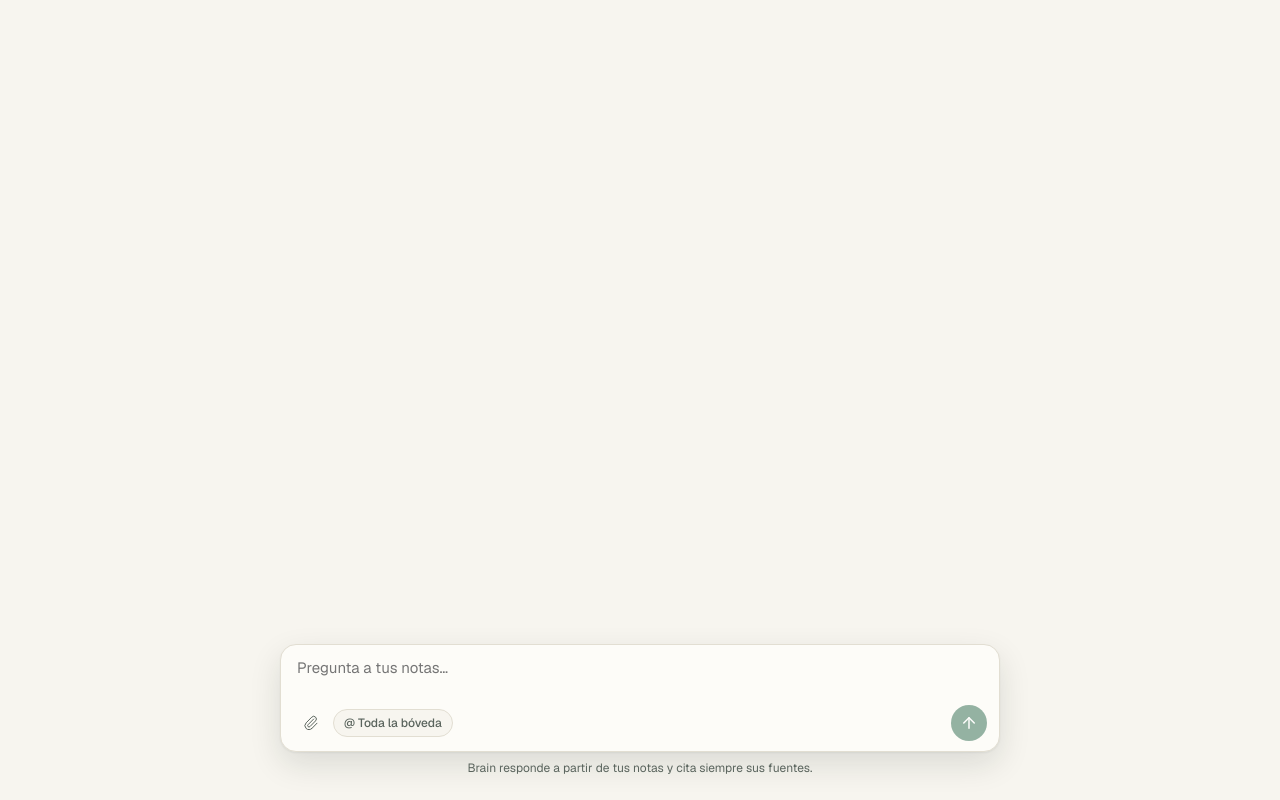
it: ChatPanel attachments › the paperclip opens the picker and attaches the chosen file
The width and height of the screenshot is (1280, 800).
Click the button named "Adjuntar archivo".
click(311, 723)  # box 297,709 -> 325,737
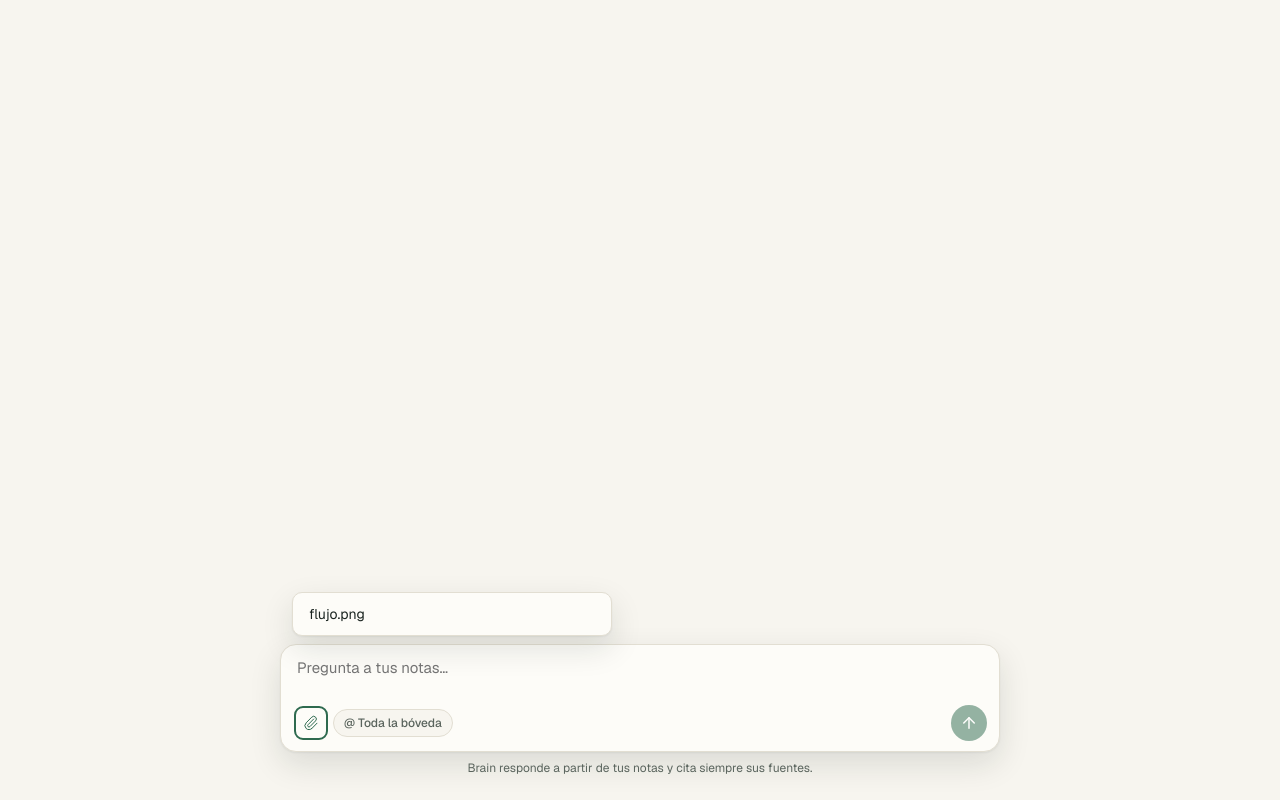
Click the button "flujo.png".
click(337, 614)  # box 297,597 -> 607,631
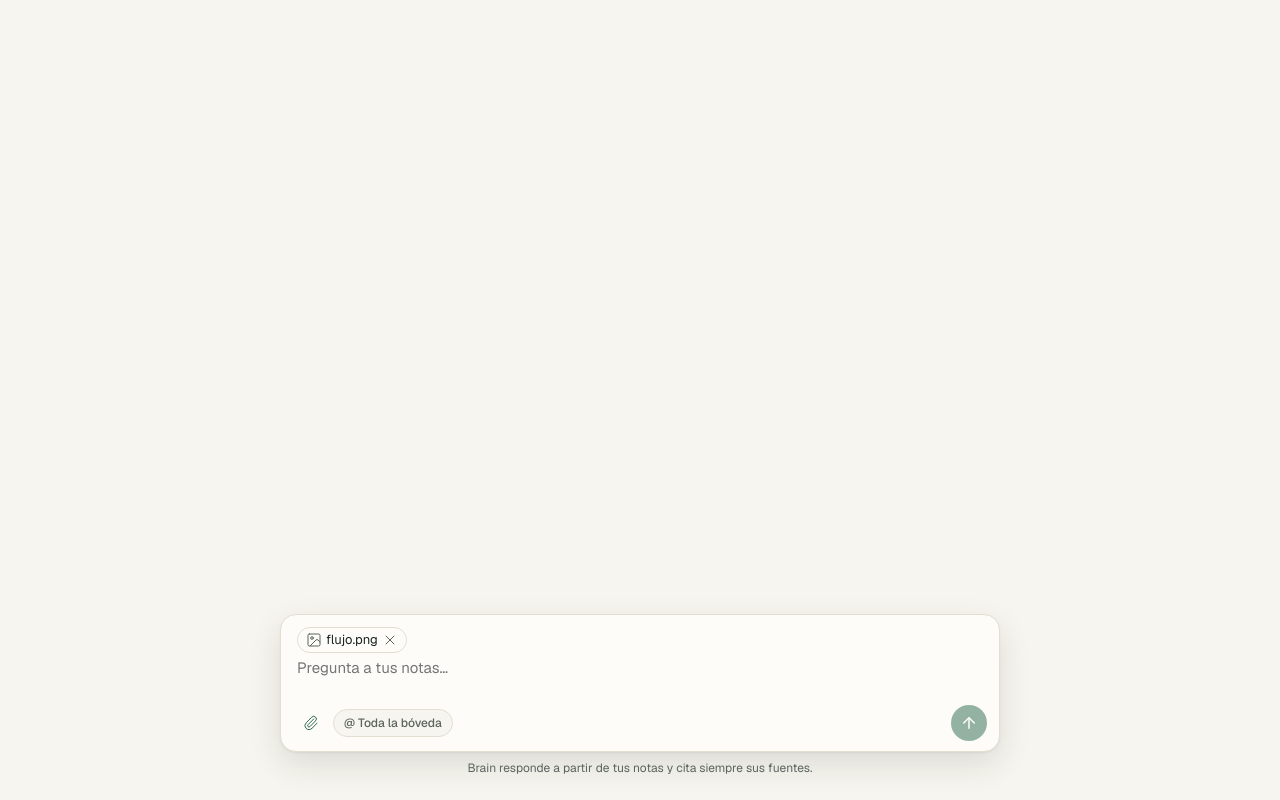
Expected: the dialog with test id "attachment-picker" is gone
